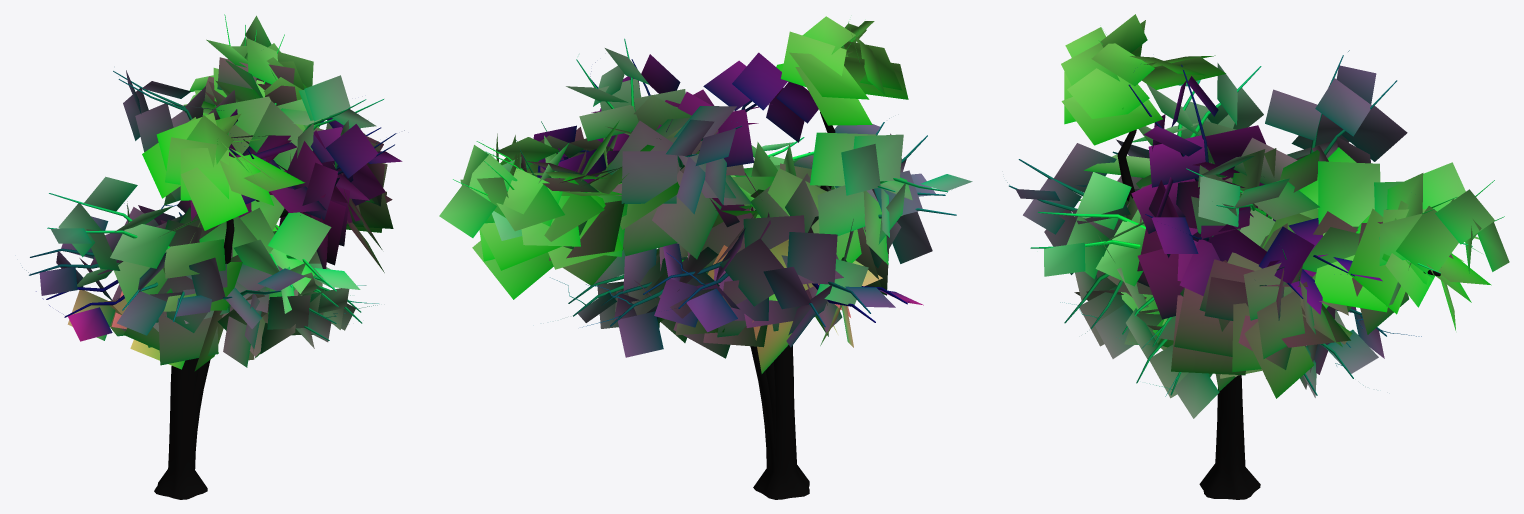
File: TreeV2.obj
The picture shows the model from 3 angles, left to right: view 1: azimuth 30°, elevation 25°; view 2: azimuth 150°, elevation 25°; view 3: azimuth 270°, elevation 25°; orthographic projection. The views are drawn at different scales.
Parts seen in each view (by area): view 1: bark02, maple branch; view 2: bark02, maple branch; view 3: bark02, maple branch.
Boxes of the visible parts, x1,y1,x2,y2 form: bark02: [39, 15, 402, 371]; maple branch: [22, 14, 404, 499]; bark02: [439, 16, 972, 373]; maple branch: [453, 23, 956, 499]; bark02: [1015, 14, 1509, 418]; maple branch: [1007, 27, 1504, 499].
Bounding box in the file's own units: 81.56 × 82.47 × 81.97.
